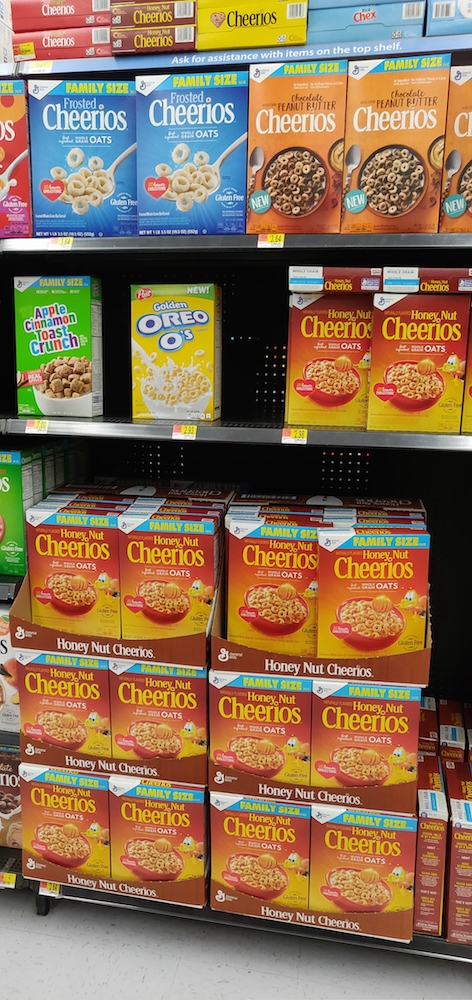Oreo Golden-568301011: (136, 287, 214, 418)
